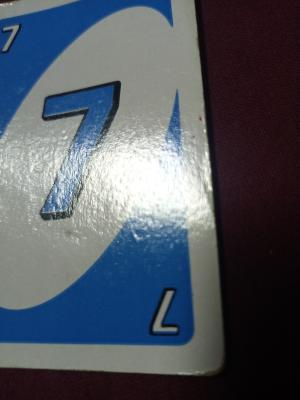blue: (2, 18, 189, 349)
num_7: (144, 278, 183, 337), (1, 23, 28, 61)
